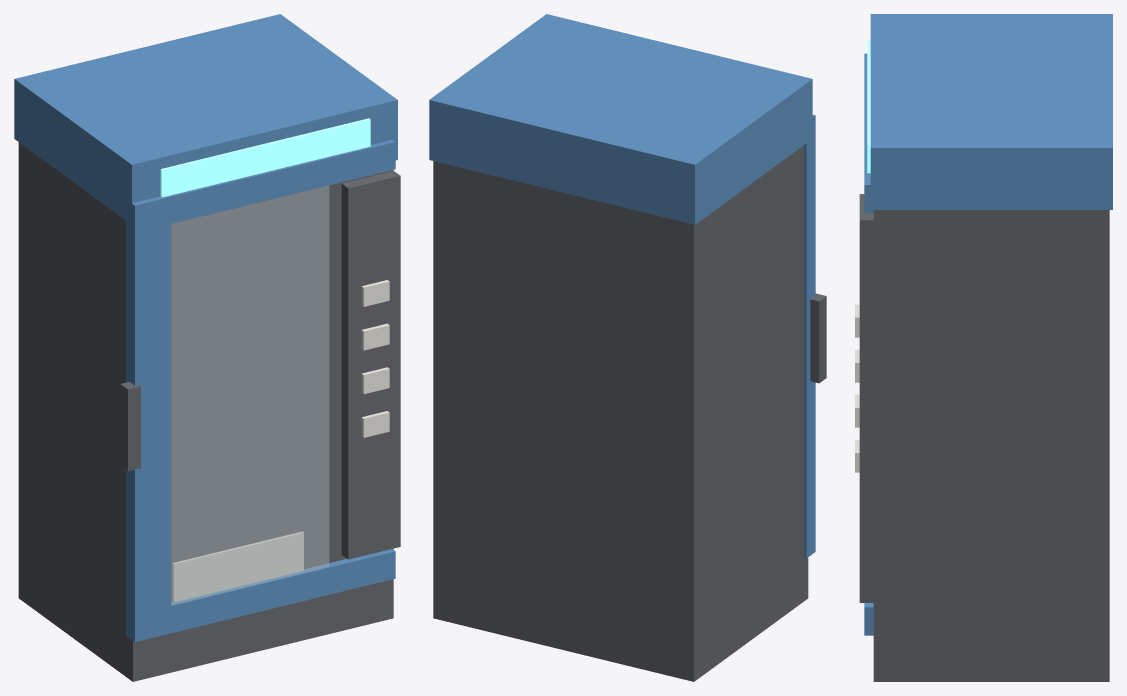
Rendered from vending-machine.glb.
3 views of the same model, side by side, from view 1: azimuth 30°, elevation 25°; view 2: azimuth 150°, elevation 25°; view 3: azimuth 270°, elevation 25° (orthographic). The views are drawn at different scales.
Visible parts, largest first — view 1: parcel-depot-and-sorting-hall-vending-machine, vending-door/glass, vending-door/blue (×3), vending-door/charcoal (×2), vending-door/cream (×4); view 2: parcel-depot-and-sorting-hall-vending-machine, vending-door/blue, vending-door/charcoal; view 3: parcel-depot-and-sorting-hall-vending-machine, vending-door/charcoal, vending-door/blue.
Boxes of the visible parts, box(x1,y1,x2,y2) form: parcel-depot-and-sorting-hall-vending-machine: box(14, 14, 397, 681); vending-door/glass: box(171, 185, 329, 604); vending-door/blue (×3): box(126, 140, 395, 641); vending-door/charcoal (×2): box(120, 171, 400, 559); vending-door/cream (×4): box(361, 280, 389, 437); parcel-depot-and-sorting-hall-vending-machine: box(429, 14, 812, 681); vending-door/blue: box(804, 114, 815, 558); vending-door/charcoal: box(810, 293, 826, 383); parcel-depot-and-sorting-hall-vending-machine: box(867, 14, 1112, 681); vending-door/charcoal: box(859, 194, 881, 602); vending-door/blue: box(864, 56, 873, 213).
Bounding box in the file's own units: 1.05 × 1.9 × 0.83.
